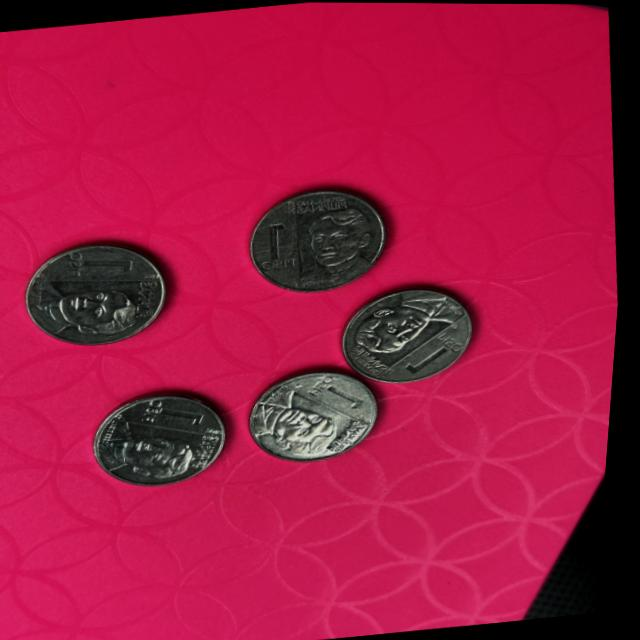1_New_Front: (404, 322, 474, 380), (251, 216, 311, 275), (59, 242, 140, 285), (311, 371, 374, 410), (144, 397, 213, 430)
